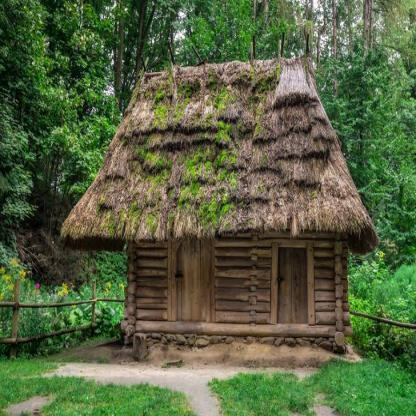Building Outline: (59, 57, 381, 359)
Door: (171, 239, 211, 323)
Facade: (129, 167, 349, 359)
Ground Floor: (129, 233, 349, 359)
Roof: (59, 57, 381, 256)
Window: (277, 247, 309, 324)
